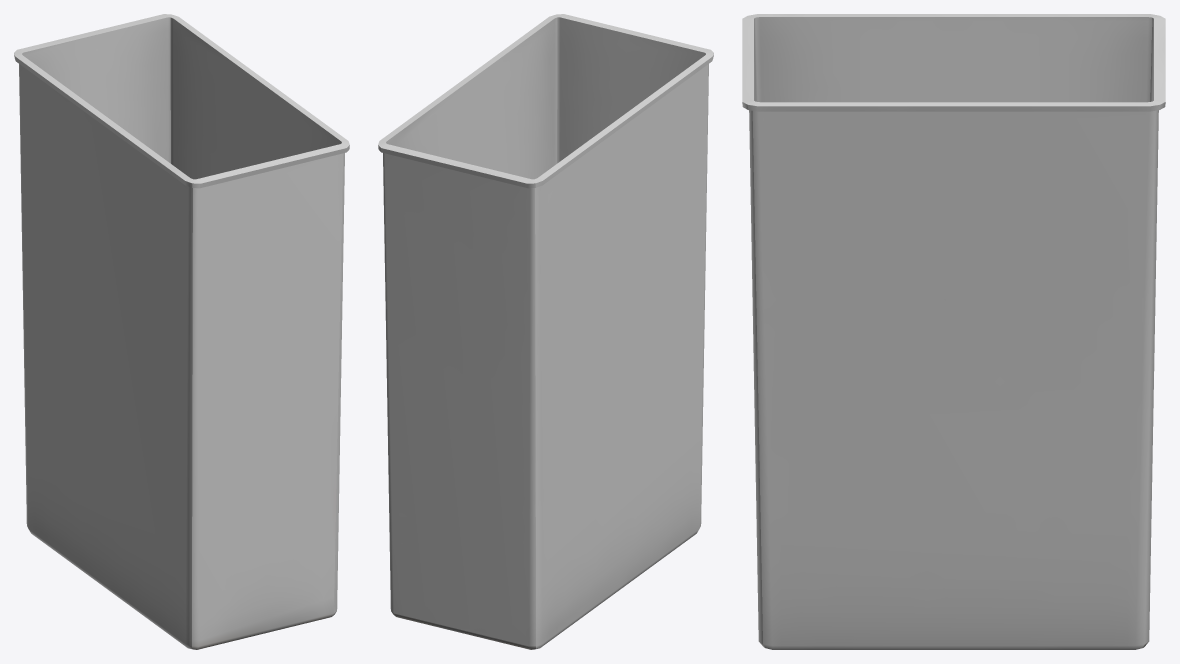
Rendered from Waste Bin.fbx.
3 views of the same model, side by side, from view 1: azimuth 30°, elevation 25°; view 2: azimuth 150°, elevation 25°; view 3: azimuth 270°, elevation 25° (orthographic). The views are drawn at different scales.
Parts seen in each view (by area): view 1: Waste_Bin; view 2: Waste_Bin; view 3: Waste_Bin.
Boxes of the visible parts, x1,y1,x2,y2 form: Waste_Bin: (14,14,349,649); Waste_Bin: (378,14,713,649); Waste_Bin: (742,14,1165,649).
Bounding box in the file's own units: 28.98 × 80.9 × 56.24.
